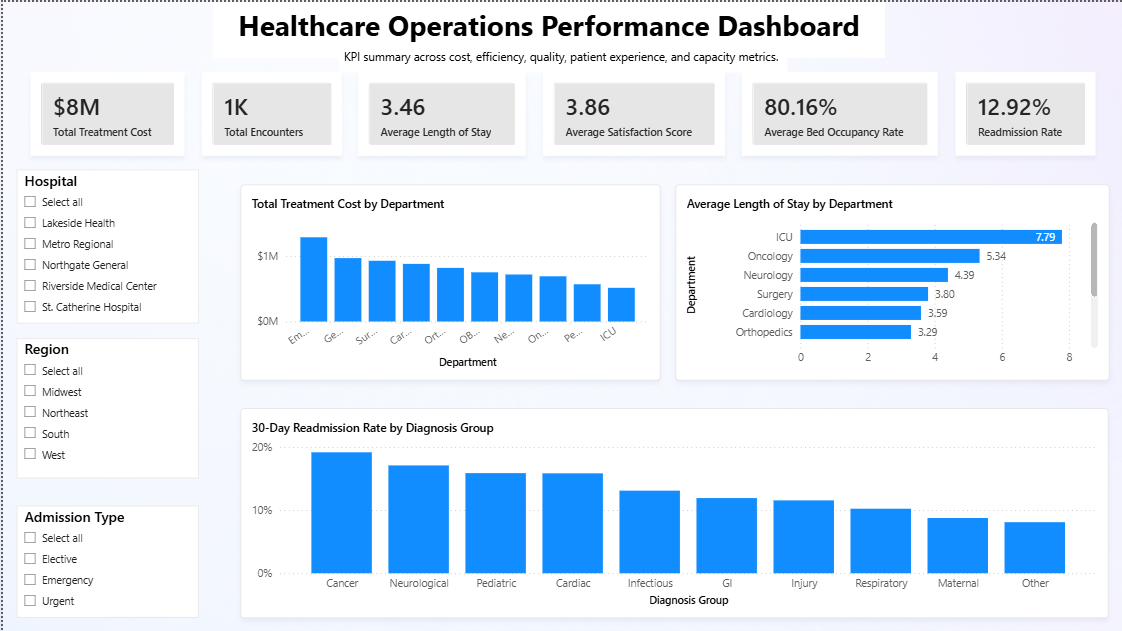

This screenshot's page, from the dashboard's own definition file:
{"tool":"powerbi","page":{"name":"Executive Dashboard","canvas":[1280,720],"ordinal":0},"visuals":[{"type":"cardVisual","fields":{"Data":["Data_Raw.Total Treatment Cost"]},"box":[32,80,176,96],"z":0},{"type":"cardVisual","fields":{"Data":["Data_Raw.Total Encounters"]},"box":[227.2,80,160,96],"z":1000},{"type":"cardVisual","fields":{"Data":["Data_Raw.Average Length of Stay"]},"box":[406.4,80,192,96],"z":2000},{"type":"cardVisual","fields":{"Data":["Data_Raw.Readmission Rate"]},"box":[1088,80,160,96],"z":3000},{"type":"cardVisual","fields":{"Data":["Data_Raw.Average Satisfaction Score"]},"box":[617.6,80,208,96],"z":4000},{"type":"cardVisual","fields":{"Data":["Data_Raw.Average Bed Occupancy Rate"]},"box":[844.8,80,224,96],"z":5000},{"type":"clusteredColumnChart","fields":{"Category":["Data_Raw.department"],"Y":["Data_Raw.Total Treatment Cost"]},"box":[272,208,480,224],"z":6000},{"type":"barChart","fields":{"Category":["Data_Raw.department"],"Y":["Data_Raw.Average Length of Stay"]},"box":[768,208,496,224],"z":7000},{"type":"columnChart","title":"30-Day Readmission Rate by Diagnosis Group","fields":{"Category":["Data_Raw.diagnosis_group"],"Y":["Data_Raw.Readmission Rate"]},"box":[272,464,992,240],"z":8000},{"type":"slicer","fields":{"Values":["Data_Raw.hospital"]},"box":[16,192,208,176],"z":9000},{"type":"slicer","fields":{"Values":["Data_Raw.region"]},"box":[16,384,208,160],"z":10000},{"type":"slicer","fields":{"Values":["Data_Raw.admission_type"]},"box":[16,576,208,128],"z":11000},{"type":"textbox","box":[240,0,768,64],"z":12000},{"type":"textbox","box":[384,48,512,32],"z":13000}]}

Visuals, with their boxes in screenshot pixels (x1, y1, x2, y2), scaled from the page's 1280x720 canvas onto the 1122x631 screenshot:
cardVisual - Data_Raw.Total Treatment Cost: select_region(28, 70, 182, 154)
cardVisual - Data_Raw.Total Encounters: select_region(199, 70, 339, 154)
cardVisual - Data_Raw.Average Length of Stay: select_region(356, 70, 525, 154)
cardVisual - Data_Raw.Readmission Rate: select_region(954, 70, 1094, 154)
cardVisual - Data_Raw.Average Satisfaction Score: select_region(541, 70, 724, 154)
cardVisual - Data_Raw.Average Bed Occupancy Rate: select_region(741, 70, 937, 154)
clusteredColumnChart - Data_Raw.department x Data_Raw.Total Treatment Cost: select_region(238, 182, 659, 379)
barChart - Data_Raw.department x Data_Raw.Average Length of Stay: select_region(673, 182, 1108, 379)
"30-Day Readmission Rate by Diagnosis Group" columnChart: select_region(238, 407, 1108, 617)
slicer - Data_Raw.hospital: select_region(14, 168, 196, 323)
slicer - Data_Raw.region: select_region(14, 337, 196, 477)
slicer - Data_Raw.admission_type: select_region(14, 505, 196, 617)
textbox: select_region(210, 0, 884, 56)
textbox: select_region(337, 42, 785, 70)
